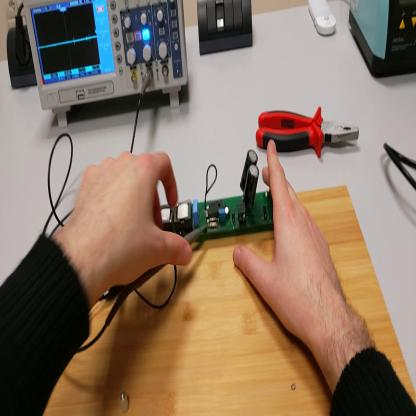hand: (233, 139, 345, 348), (72, 147, 192, 296)
high voltage board: (157, 153, 278, 235)
oscilloscope: (19, 2, 190, 132)
oscilloscope probe tip: (105, 223, 207, 329)
pliers: (255, 106, 362, 157)
socket: (6, 25, 37, 91)
welder station: (349, 1, 415, 86)
working area: (35, 180, 416, 414)
